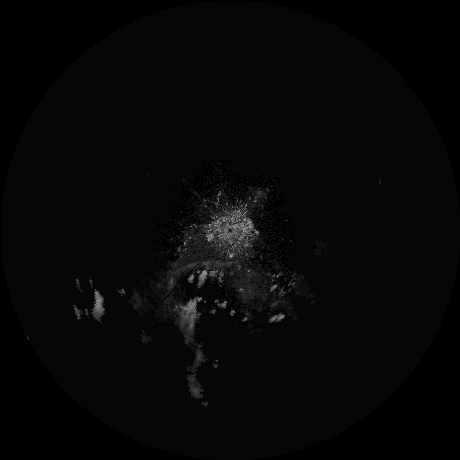frontgust: (173, 259, 239, 273)
